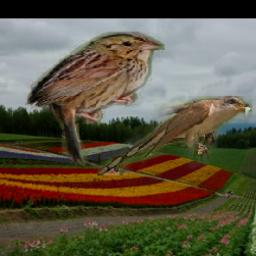Cuckoo: (96, 96, 251, 175)
Sparrow: (25, 33, 165, 168)
